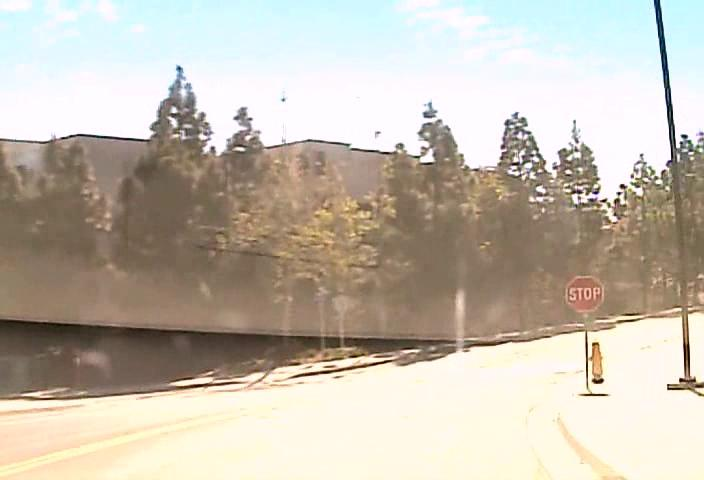stop: (565, 275, 604, 312)
